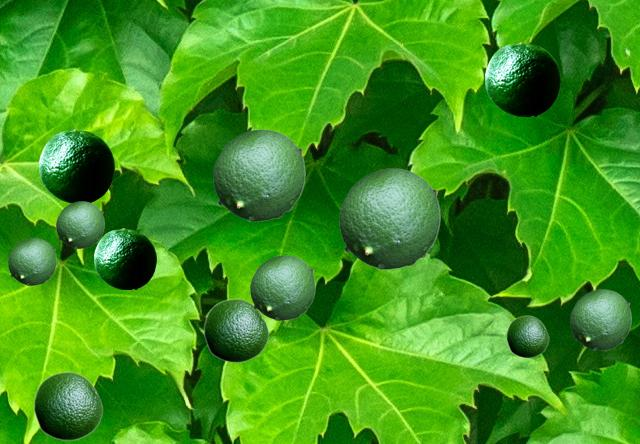calamansi: (339, 168, 439, 268), (213, 129, 304, 220), (39, 129, 113, 202), (485, 42, 559, 115), (33, 371, 102, 440), (203, 298, 268, 362), (250, 255, 314, 319), (94, 228, 155, 288), (570, 289, 630, 349), (8, 238, 55, 284), (56, 201, 103, 247), (506, 315, 548, 357)
